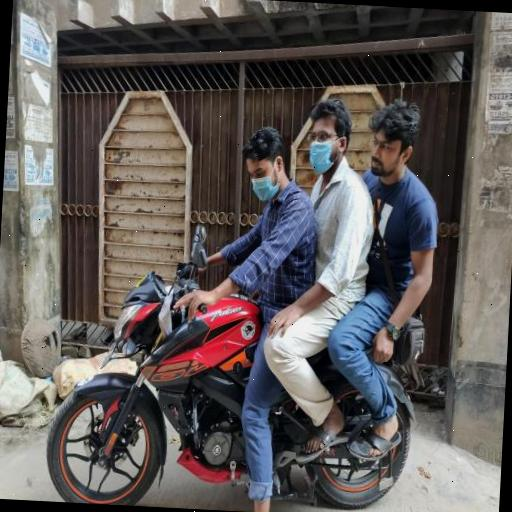no helmet: (231, 120, 311, 247)
triple riding: (48, 87, 485, 512)
